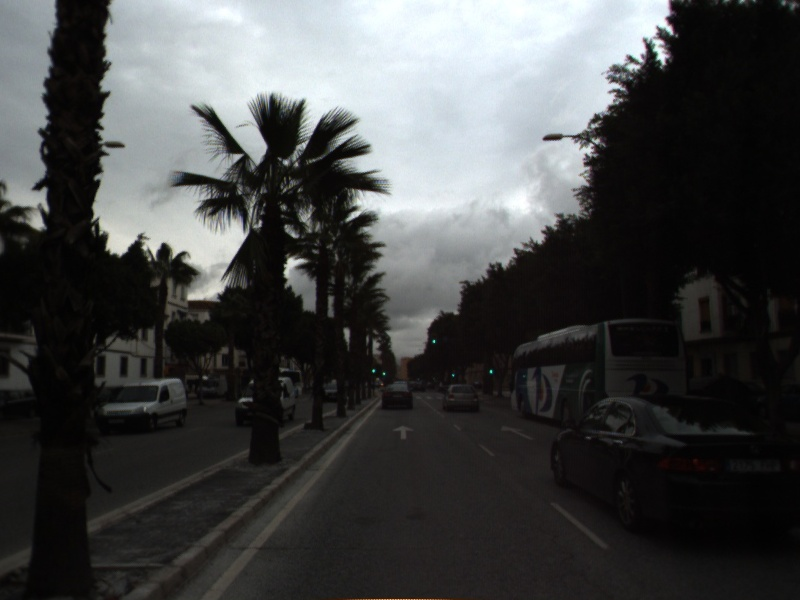STRAIGHT: (499, 423, 536, 442), (391, 423, 417, 441)
